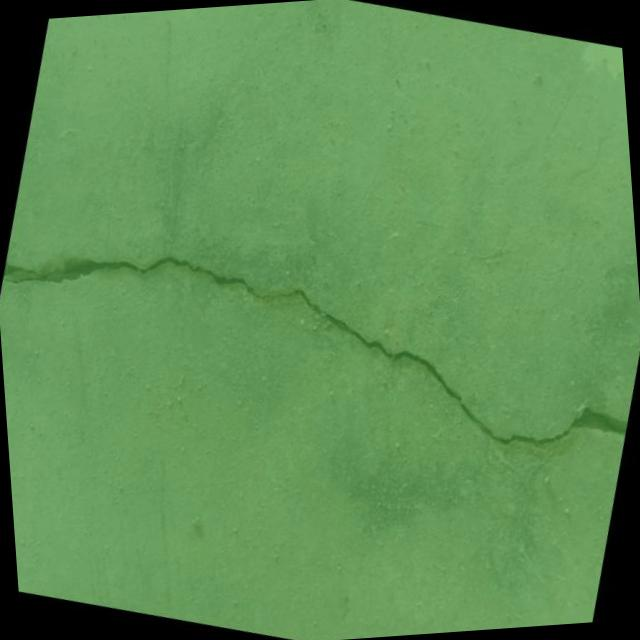crack: (0, 183, 640, 510)
